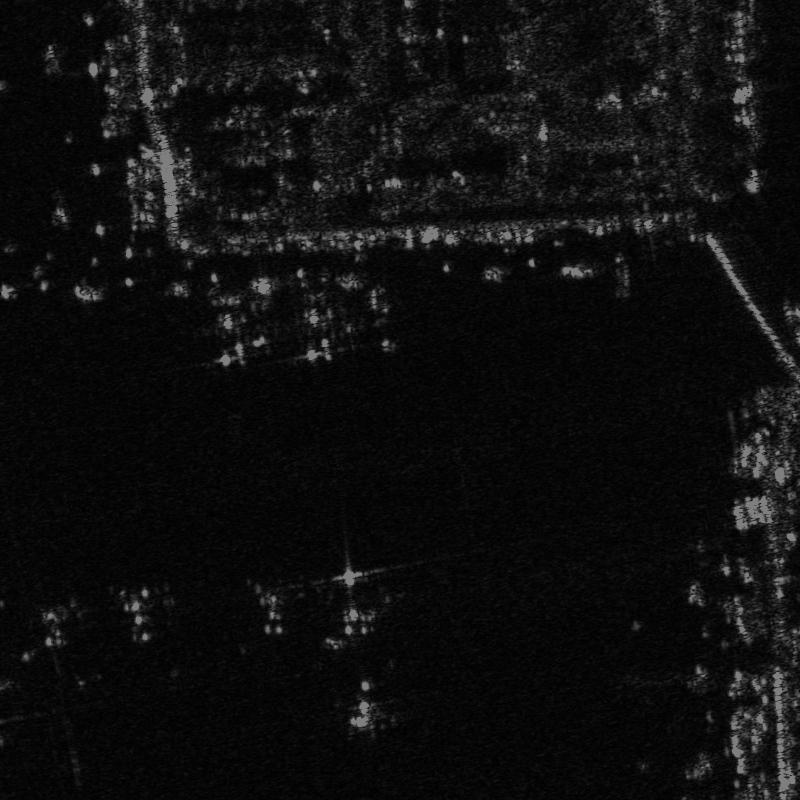ARJ21: (341, 274, 432, 356), (336, 670, 401, 738)
Boeing737: (196, 283, 272, 370)
other: (316, 565, 405, 650), (278, 286, 343, 369), (110, 579, 177, 647), (26, 594, 96, 657), (248, 577, 304, 642)
